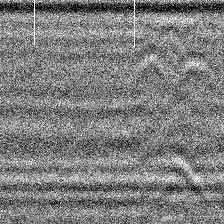Utility: (132, 46, 215, 95), (137, 146, 205, 200)
